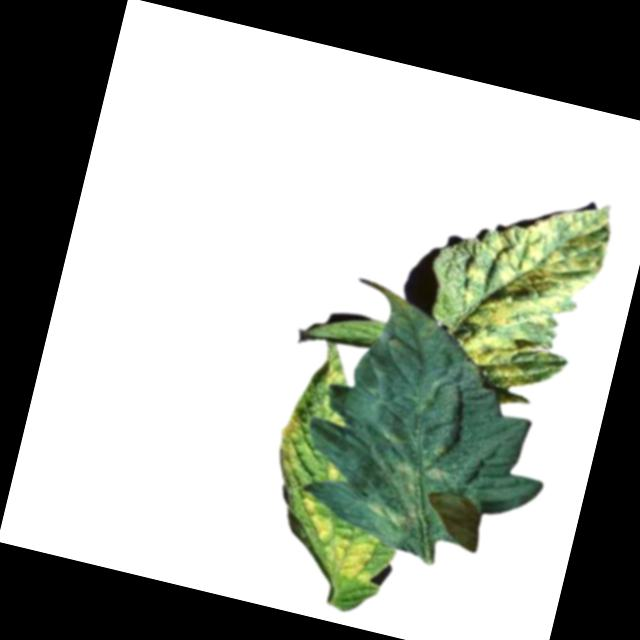Leaf_Mold: (441, 179, 618, 402), (284, 489, 392, 588), (360, 447, 458, 538), (268, 406, 309, 483), (323, 361, 354, 390), (323, 459, 344, 484)
